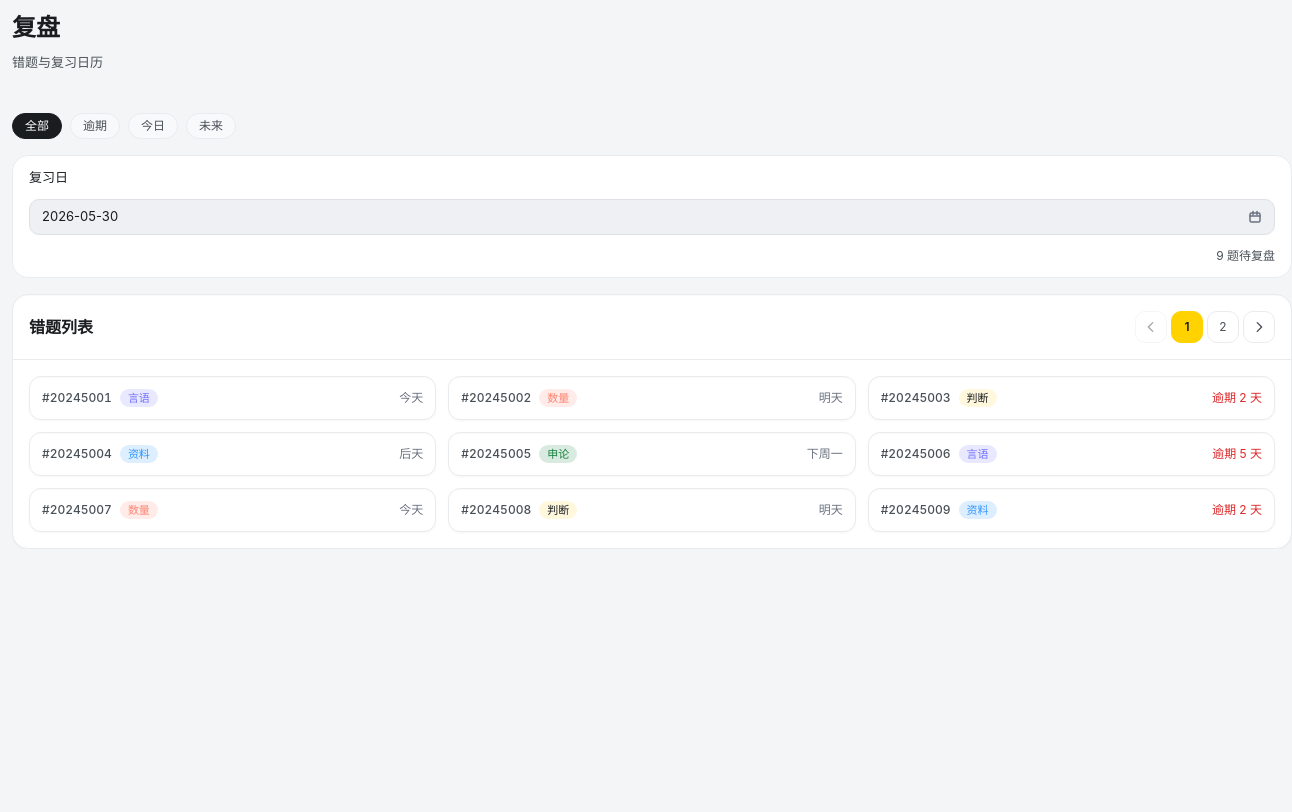
Scenario: Review view (D.4.5 + 复习日历) › renders DatePicker with default presets (今天 / 明天 / 下周一)
This screenshot has width=1292, height=812.
Click the button named "复习日".
click(80, 216)  # box [29,199,1275,235]
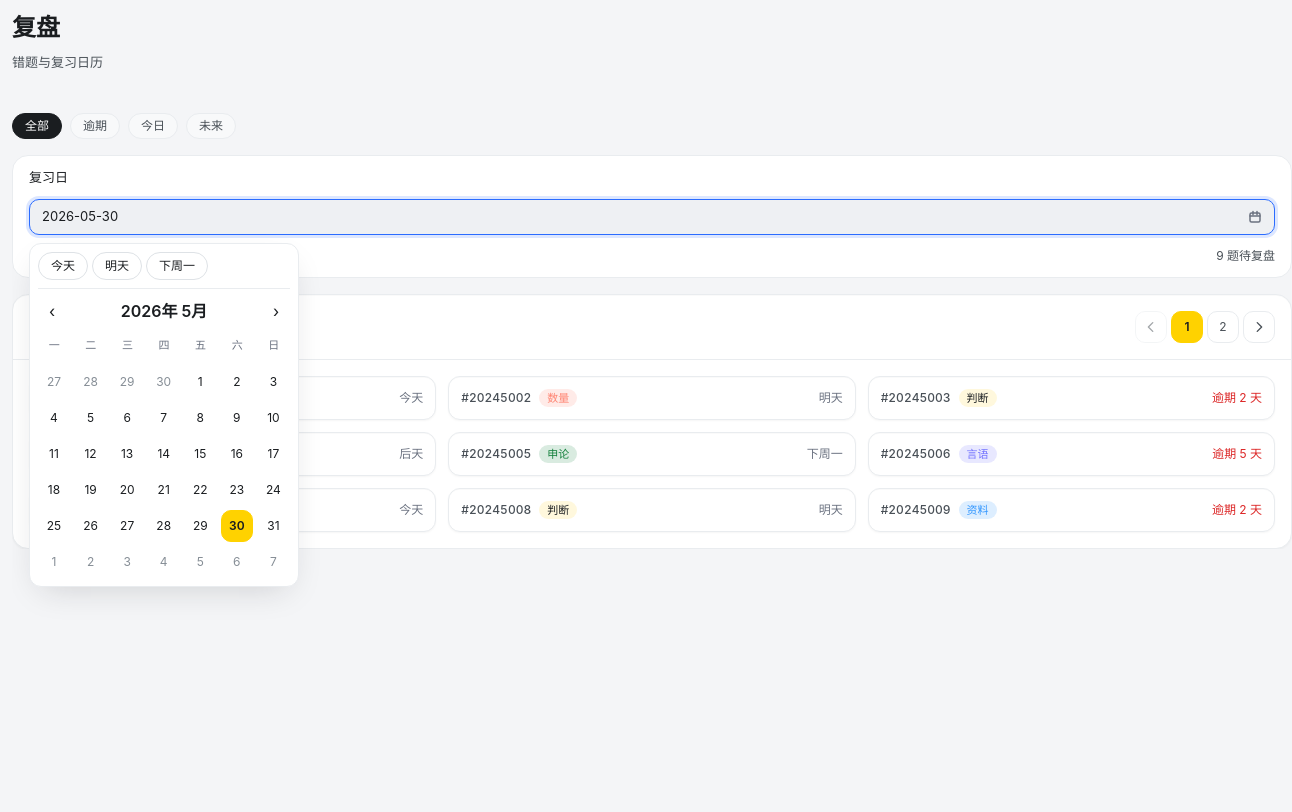
Now the button "今天" is shown, box [38,252,88,280]
Now the button "明天" is shown, box [92,252,142,280]
Now the button "下周一" is shown, box [146,252,208,280]
